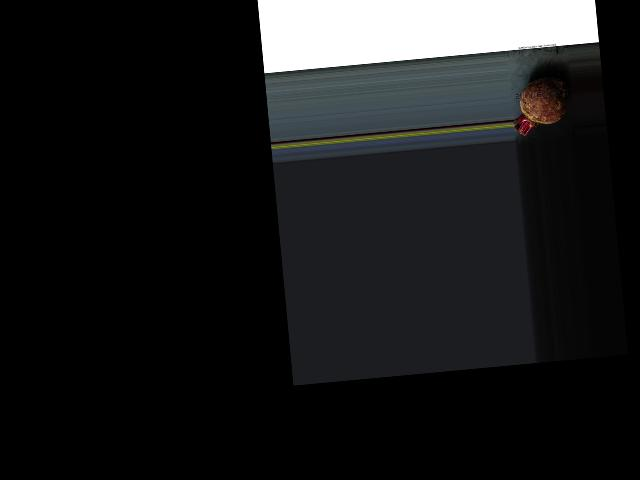beet: (509, 75, 570, 135)
